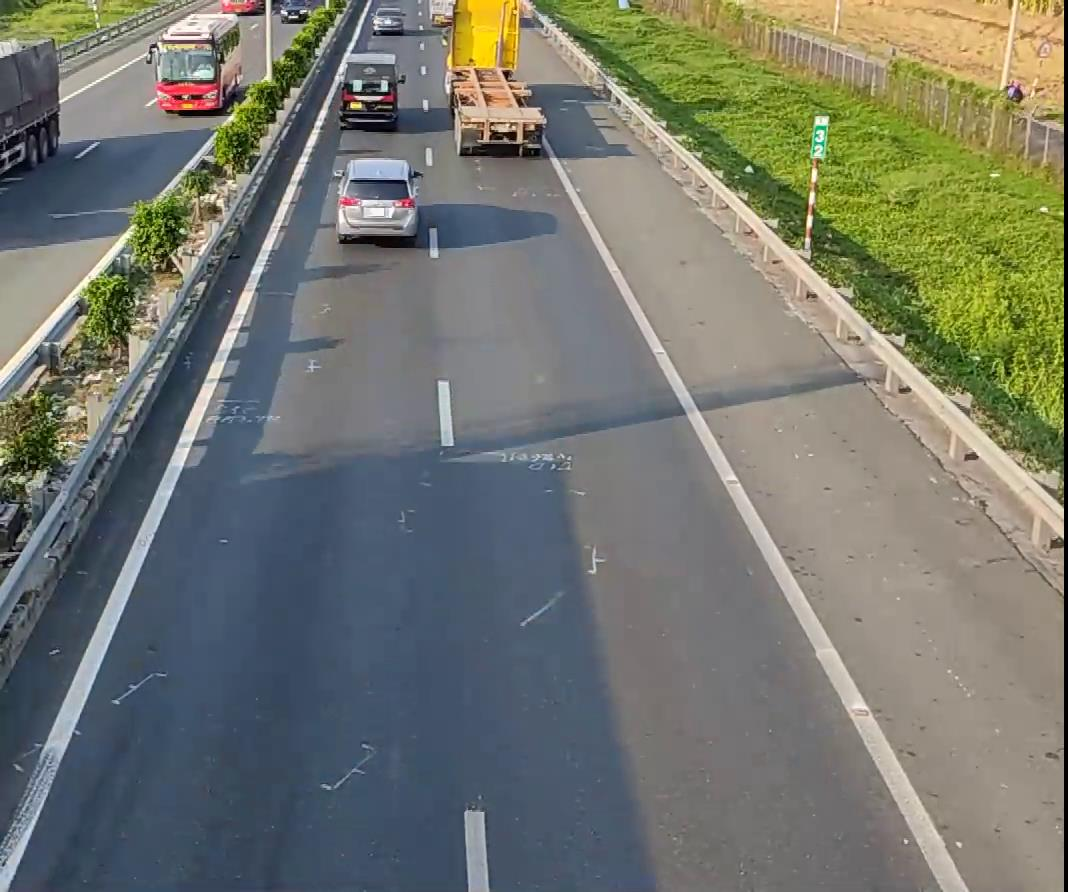bus: (152, 12, 242, 111)
car: (332, 156, 420, 243)
container: (442, 0, 544, 156)
truck: (0, 35, 62, 215)
